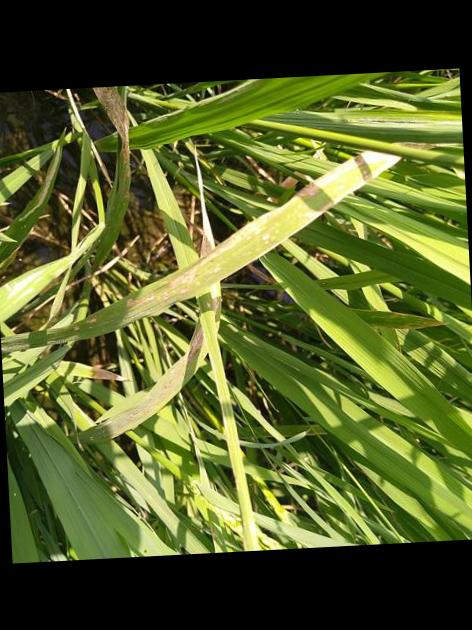Leaf Streak: (1, 149, 400, 351), (79, 333, 207, 439), (79, 85, 130, 271), (0, 247, 81, 321), (193, 145, 215, 256), (355, 309, 443, 330), (71, 361, 127, 380), (211, 281, 220, 321)
